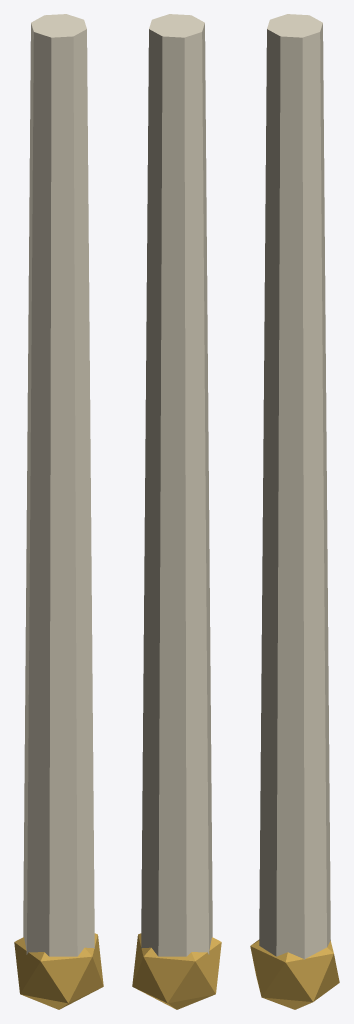
Rendered from wk_skeleton_forearm_v01.glb.
3 renders of one model, left to right at view 1: azimuth 30°, elevation 25°; view 2: azimuth 150°, elevation 25°; view 3: azimuth 330°, elevation 25°, orthographic.
Visible parts, largest first — view 1: GEO_Skeleton_forearm, GEO_Skeleton_forearm_Joint; view 2: GEO_Skeleton_forearm, GEO_Skeleton_forearm_Joint; view 3: GEO_Skeleton_forearm, GEO_Skeleton_forearm_Joint.
Part boxes in pixels (<box>): GEO_Skeleton_forearm: <box>23,14,94,956</box>; GEO_Skeleton_forearm_Joint: <box>14,933,103,1009</box>; GEO_Skeleton_forearm: <box>141,14,212,956</box>; GEO_Skeleton_forearm_Joint: <box>132,933,221,1009</box>; GEO_Skeleton_forearm: <box>259,14,330,959</box>; GEO_Skeleton_forearm_Joint: <box>250,939,339,1009</box>.
Bounding box in the file's own units: 0.0869 × 1.05 × 0.0827.
